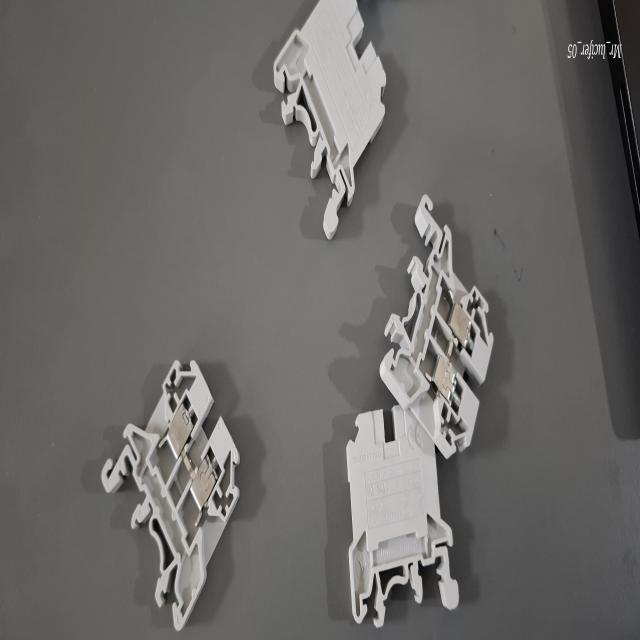Inverted: (315, 401, 483, 640), (260, 0, 409, 248)
Pass: (90, 322, 253, 627), (374, 168, 520, 458)
